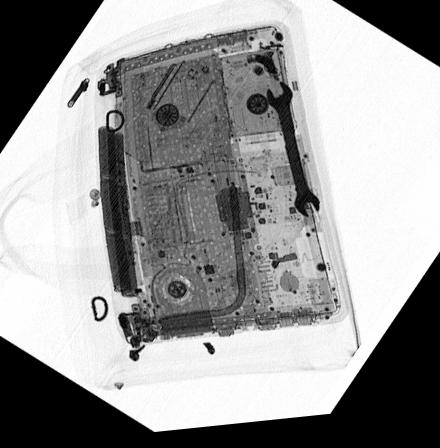Wrench: (264, 85, 321, 225)
